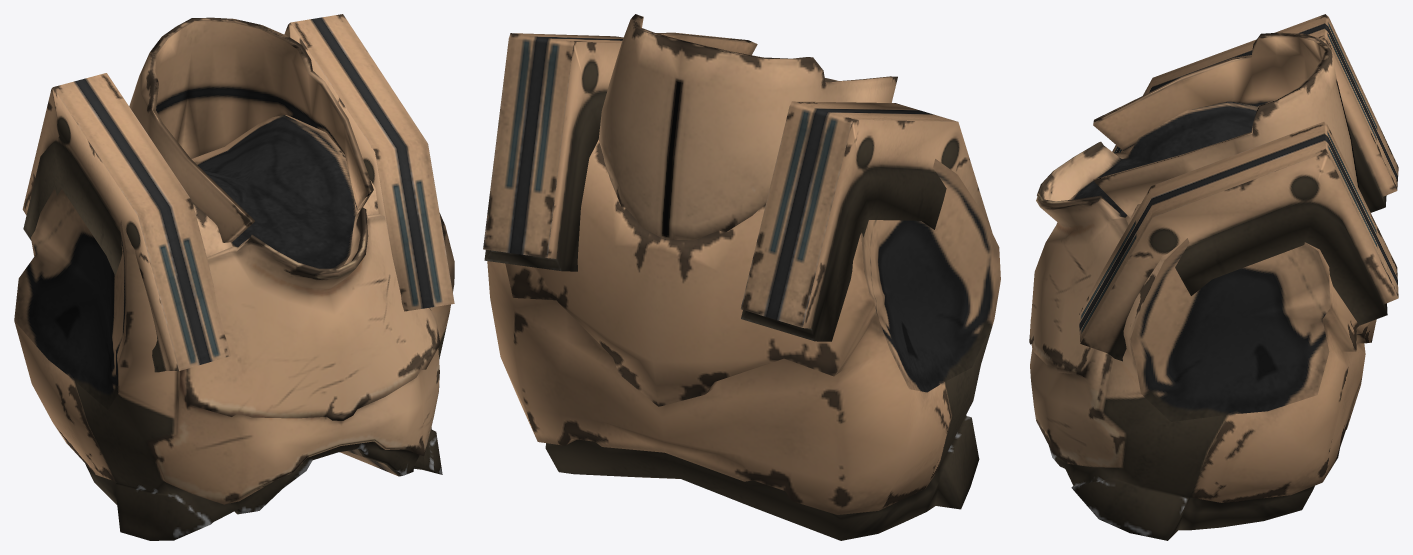
The model's file is armor.dae.
3 views of the same model, side by side, from view 1: azimuth 30°, elevation 25°; view 2: azimuth 150°, elevation 25°; view 3: azimuth 270°, elevation 25° (orthographic). The views are drawn at different scales.
Parts seen in each view (by area): view 1: armor; view 2: armor; view 3: armor.
Part boxes in pixels (x1,y1,x2,y2): armor: (14,14,454,540); armor: (483,14,1000,540); armor: (1029,14,1398,540).
Size of the model in its own units: 1.1 by 0.9974 by 1.24.
Materials: 1 (1 with a texture image).
